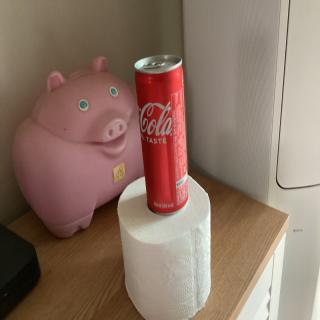cocacola: (133, 52, 195, 218)
